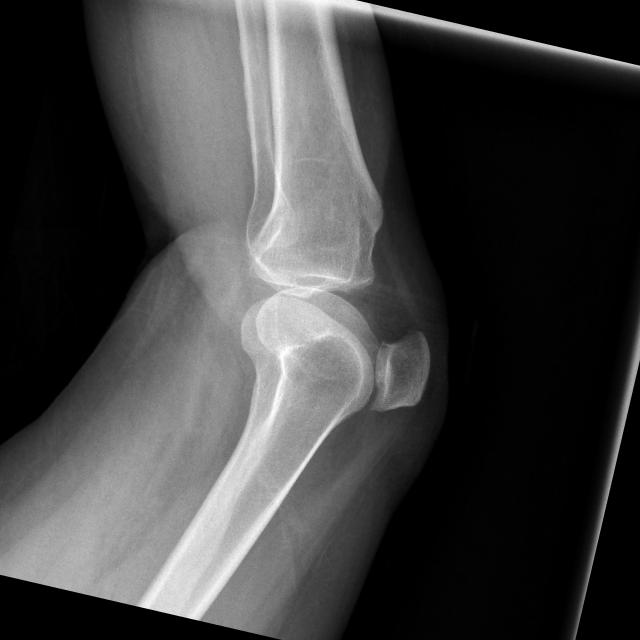Knee: (220, 201, 461, 425)
